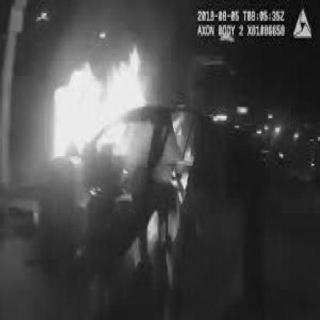Fire: (42, 47, 160, 164)
